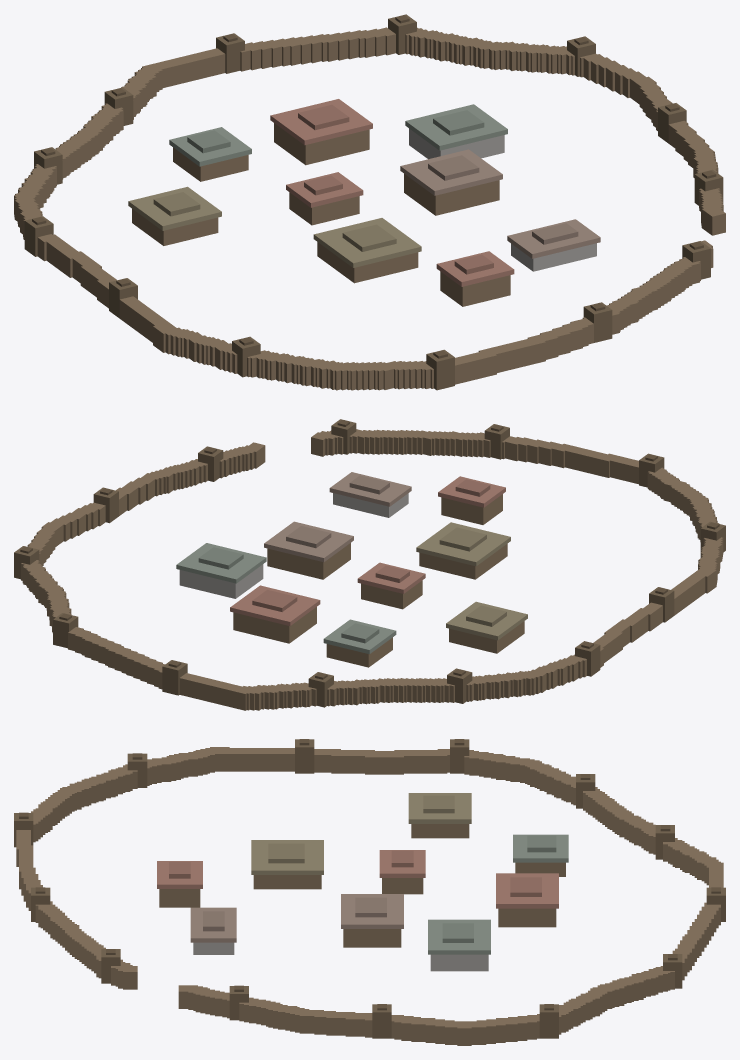
The model's file is ciudad_asentamiento_cultistas_poi_237_1108_01.glb.
3 renders of one model, top to bottom at view 1: azimuth 30°, elevation 25°; view 2: azimuth 150°, elevation 25°; view 3: azimuth 270°, elevation 25°, orthographic. The views are drawn at different scales.
Parts seen in each view (by area): view 1: ciudad_asentamiento_cultistas_poi_237_1108; view 2: ciudad_asentamiento_cultistas_poi_237_1108; view 3: ciudad_asentamiento_cultistas_poi_237_1108.
Boxes of the visible parts, <box> form: ciudad_asentamiento_cultistas_poi_237_1108: <box>14,14,725,390</box>; ciudad_asentamiento_cultistas_poi_237_1108: <box>14,419,725,710</box>; ciudad_asentamiento_cultistas_poi_237_1108: <box>14,739,725,1045</box>.
Bounding box in the file's own units: 68.75 × 3.25 × 73.5.
